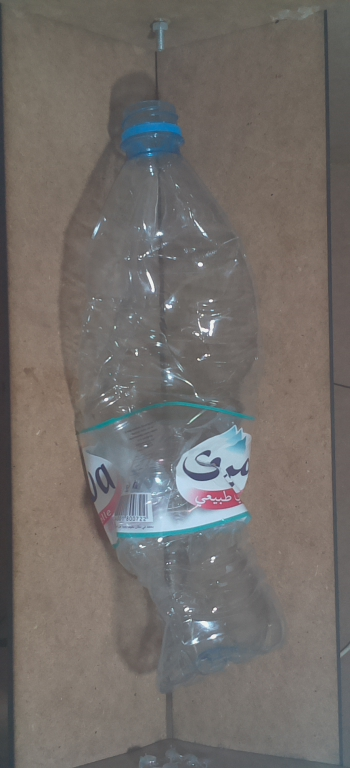Bouteille_1.5L: (72, 87, 299, 700)
